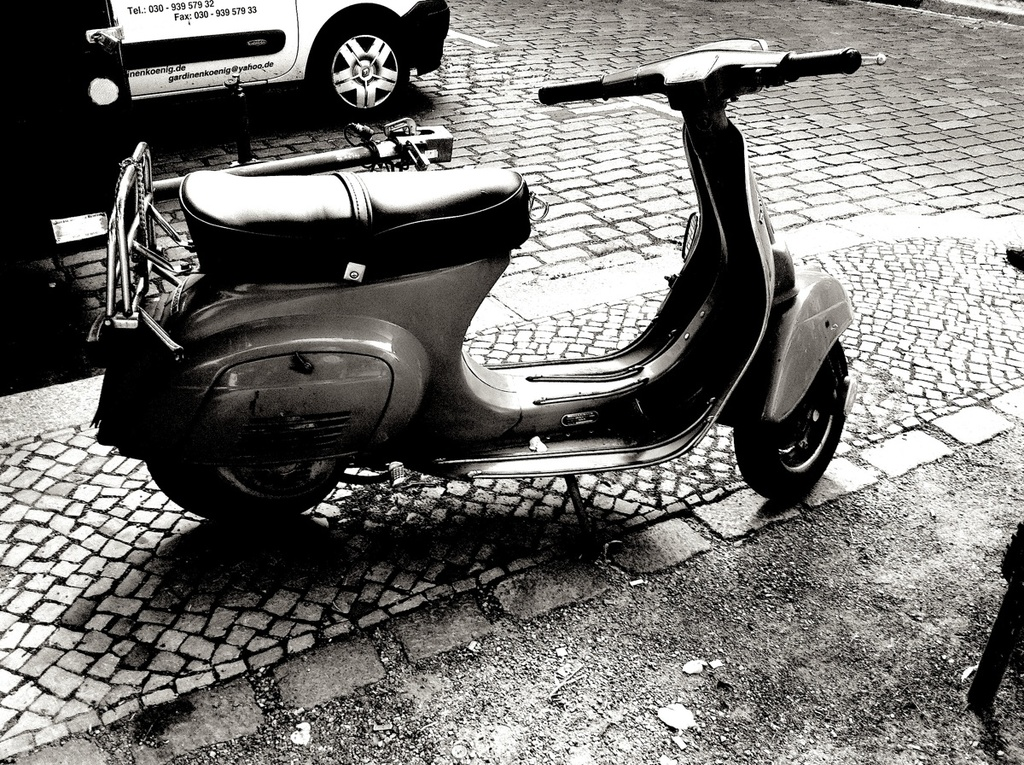Wheel: (741, 307, 847, 505), (148, 459, 350, 521), (321, 22, 411, 121)
